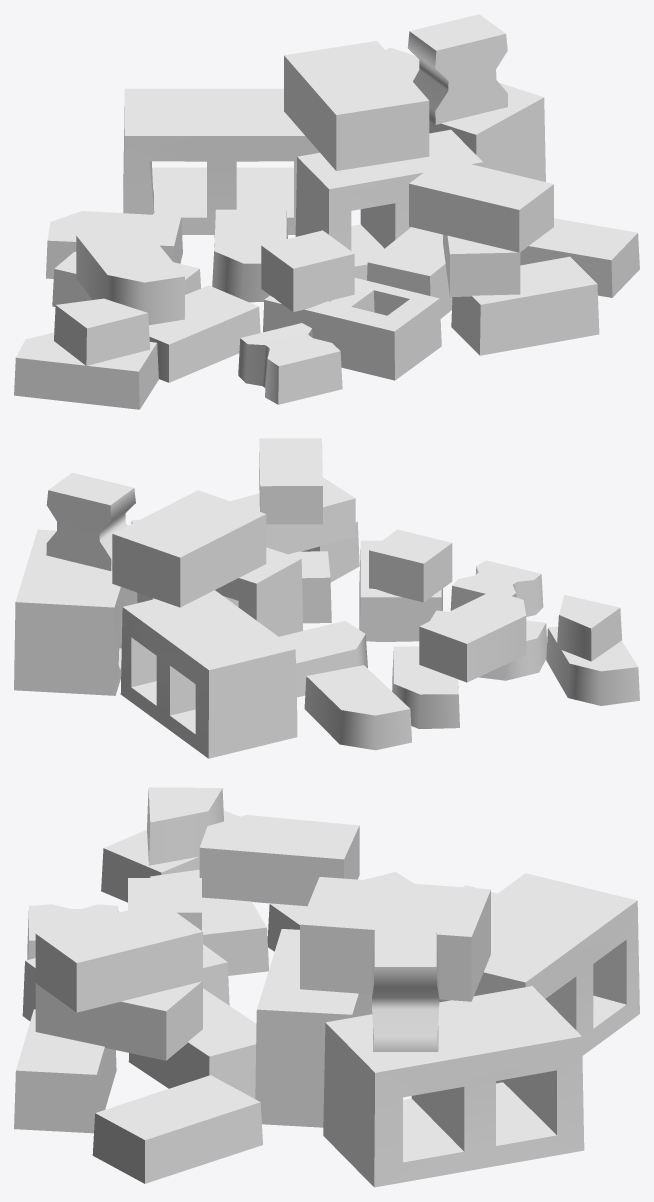
File: Prfb_Garbage.fbx
3 renders of one model, top to bottom at view 1: azimuth 30°, elevation 25°; view 2: azimuth 150°, elevation 25°; view 3: azimuth 270°, elevation 25°, orthographic. The views are drawn at different scales.
Parts seen in each view (by area): view 1: Mat_Gargabe_Gray; view 2: Mat_Gargabe_Gray; view 3: Mat_Gargabe_Gray.
Boxes of the visible parts, x1=… form: Mat_Gargabe_Gray: x1=14, y1=14, x2=639, y2=409; Mat_Gargabe_Gray: x1=14, y1=438, x2=639, y2=758; Mat_Gargabe_Gray: x1=14, y1=787, x2=639, y2=1187.
Bounding box in the file's own units: 2.08 × 0.564 × 1.62.
Materials: 1 (1 with a texture image).
